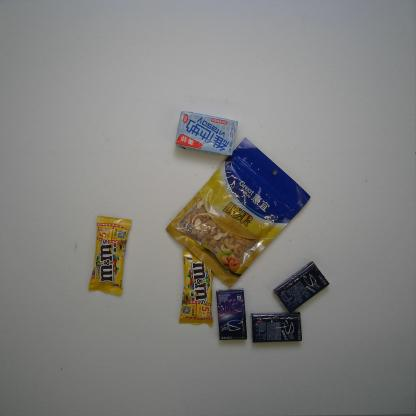Chocolate: (82, 213, 136, 300), (177, 247, 221, 328)
Dried Fruit: (162, 136, 311, 292)
Gum: (272, 260, 331, 315), (214, 287, 252, 342), (250, 312, 306, 344)
Milk: (172, 108, 242, 158)
